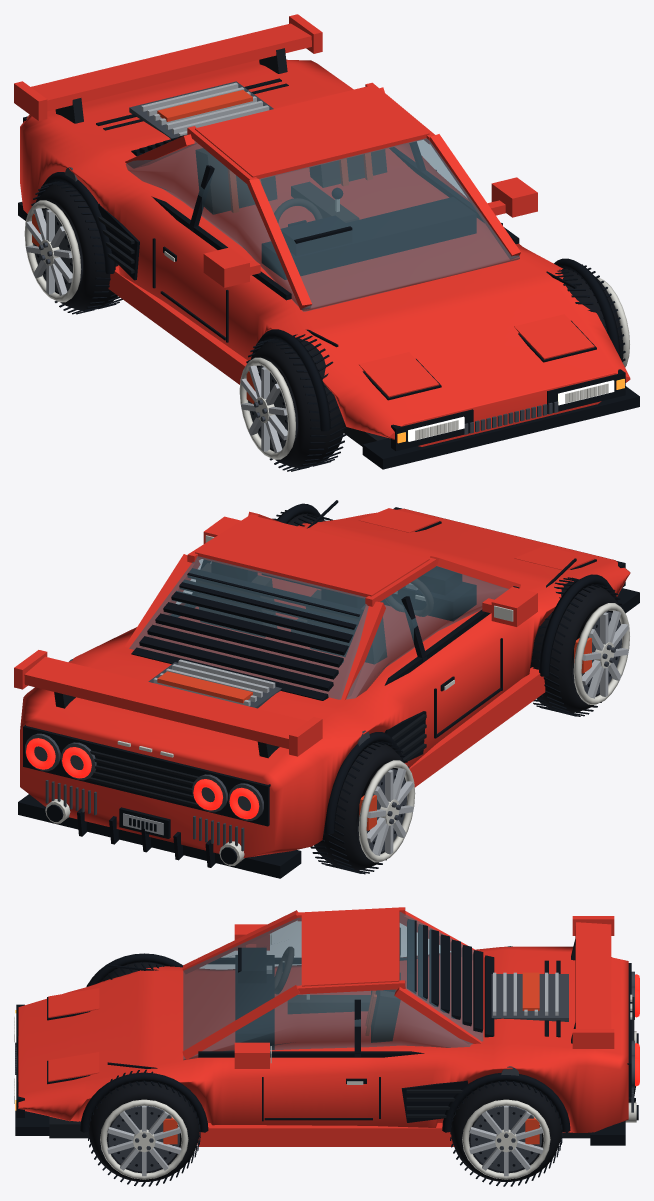
File: cinder-gt.glb
3 renders of one model, top to bottom at view 1: azimuth 30°, elevation 25°; view 2: azimuth 150°, elevation 25°; view 3: azimuth 270°, elevation 25°, orthographic. The views are drawn at different scales.
Visible parts, largest first — view 1: Cinder GT, Wheel_1, Wheel_0, Wheel_3; view 2: Cinder GT, Wheel_1, Wheel_0, BrakeLight_3, BrakeLight_0, BrakeLight_2, BrakeLight_1; view 3: Cinder GT, Wheel_3, Wheel_2, Wheel_1.
Part boxes in pixels (x1,y1,x2,y2): Cinder GT: [14, 14, 639, 469]; Wheel_1: [239, 334, 346, 471]; Wheel_0: [24, 181, 122, 314]; Wheel_3: [555, 264, 629, 367]; Cinder GT: [14, 500, 639, 878]; Wheel_1: [530, 577, 629, 716]; Wheel_0: [310, 741, 415, 874]; BrakeLight_3: [26, 738, 55, 769]; BrakeLight_0: [229, 787, 259, 819]; BrakeLight_2: [62, 747, 91, 778]; BrakeLight_1: [193, 779, 222, 810]; Cinder GT: [14, 907, 638, 1146]; Wheel_3: [88, 1069, 200, 1186]; Wheel_2: [450, 1080, 562, 1186]; Wheel_1: [98, 961, 165, 982].
Size of the model in its own units: 2.62 by 1.51 by 4.81.
